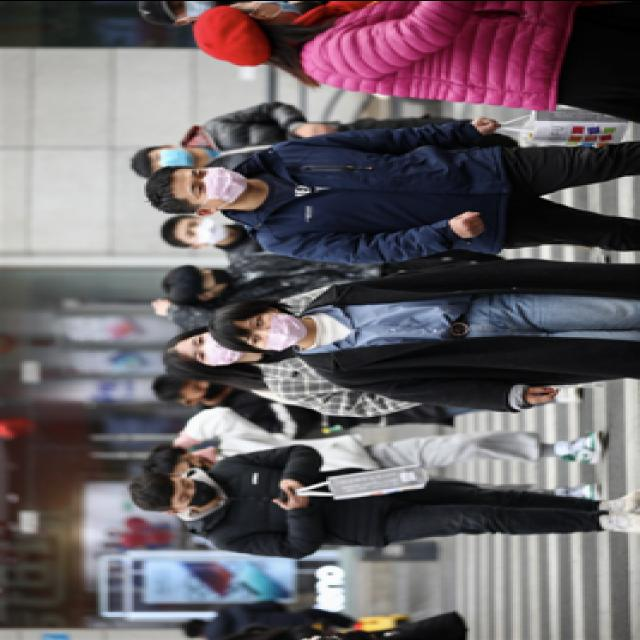with_mask: (240, 310, 307, 352), (182, 166, 245, 208), (184, 330, 244, 368), (170, 476, 218, 510), (180, 214, 226, 244), (146, 148, 194, 175), (170, 0, 218, 21), (185, 378, 222, 402), (194, 267, 230, 291)
